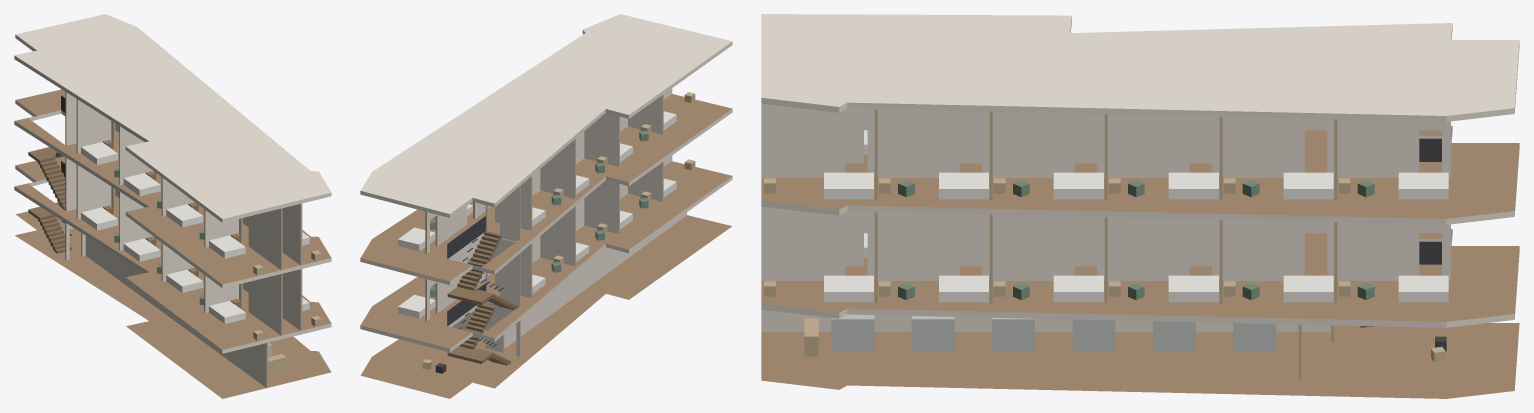
Rendered from interior.glb.
The picture shows the model from 3 angles, left to right: view 1: azimuth 30°, elevation 25°; view 2: azimuth 150°, elevation 25°; view 3: azimuth 270°, elevation 25°; orthographic projection. The views are drawn at different scales.
Visible parts, largest first — view 1: slabs, partitions, coarse-s2, coarse-s1, stair, coarse-s0; view 2: slabs, partitions, stair, coarse-s2, coarse-s1; view 3: slabs, partitions, coarse-s1, coarse-s2, coarse-s0, stair.
Part boxes in pixels (bbox=[...]): slabs: bbox=[14, 14, 331, 398]; partitions: bbox=[65, 92, 302, 388]; coarse-s2: bbox=[81, 140, 321, 275]; coarse-s1: bbox=[81, 205, 321, 340]; stair: bbox=[28, 95, 72, 253]; coarse-s0: bbox=[268, 342, 286, 374]; slabs: bbox=[360, 14, 732, 398]; partitions: bbox=[425, 88, 686, 356]; stair: bbox=[447, 216, 517, 365]; coarse-s2: bbox=[398, 92, 695, 251]; coarse-s1: bbox=[398, 159, 695, 318]; slabs: bbox=[761, 14, 1519, 398]; partitions: bbox=[761, 103, 1450, 380]; coarse-s1: bbox=[764, 233, 1448, 302]; coarse-s2: bbox=[764, 130, 1448, 199]; coarse-s0: bbox=[804, 314, 1446, 362]; stair: bbox=[1359, 138, 1441, 327].
Size of the model in its own units: 9.61 by 12.44 by 30.17.
